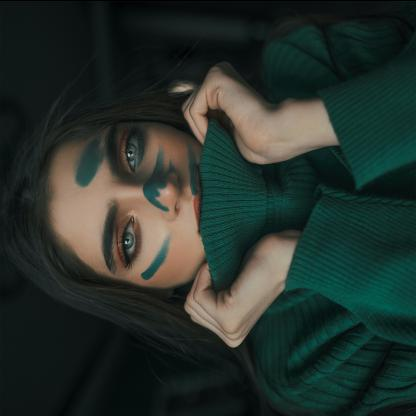Eye: (116, 212, 143, 270), (120, 123, 147, 173)
Mouth: (192, 163, 201, 233)
Nose: (126, 169, 181, 218)
